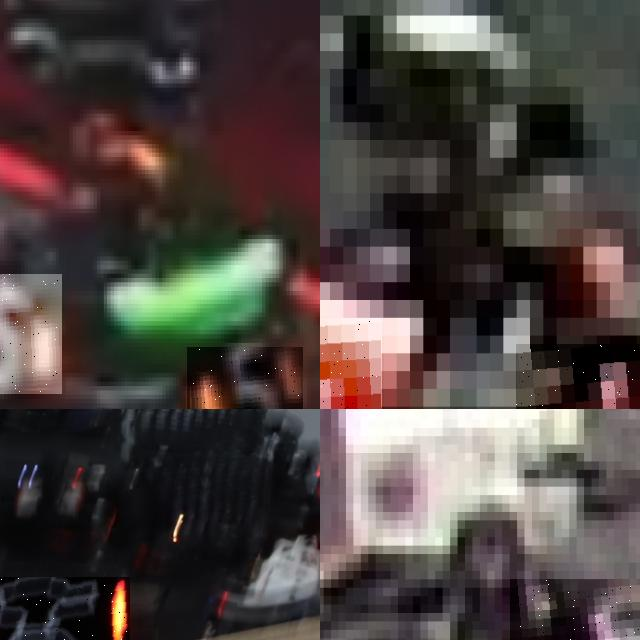R4: (509, 579, 640, 640)
R5: (516, 344, 640, 409), (0, 273, 62, 394), (186, 347, 303, 409)
Rs: (0, 576, 130, 640)
